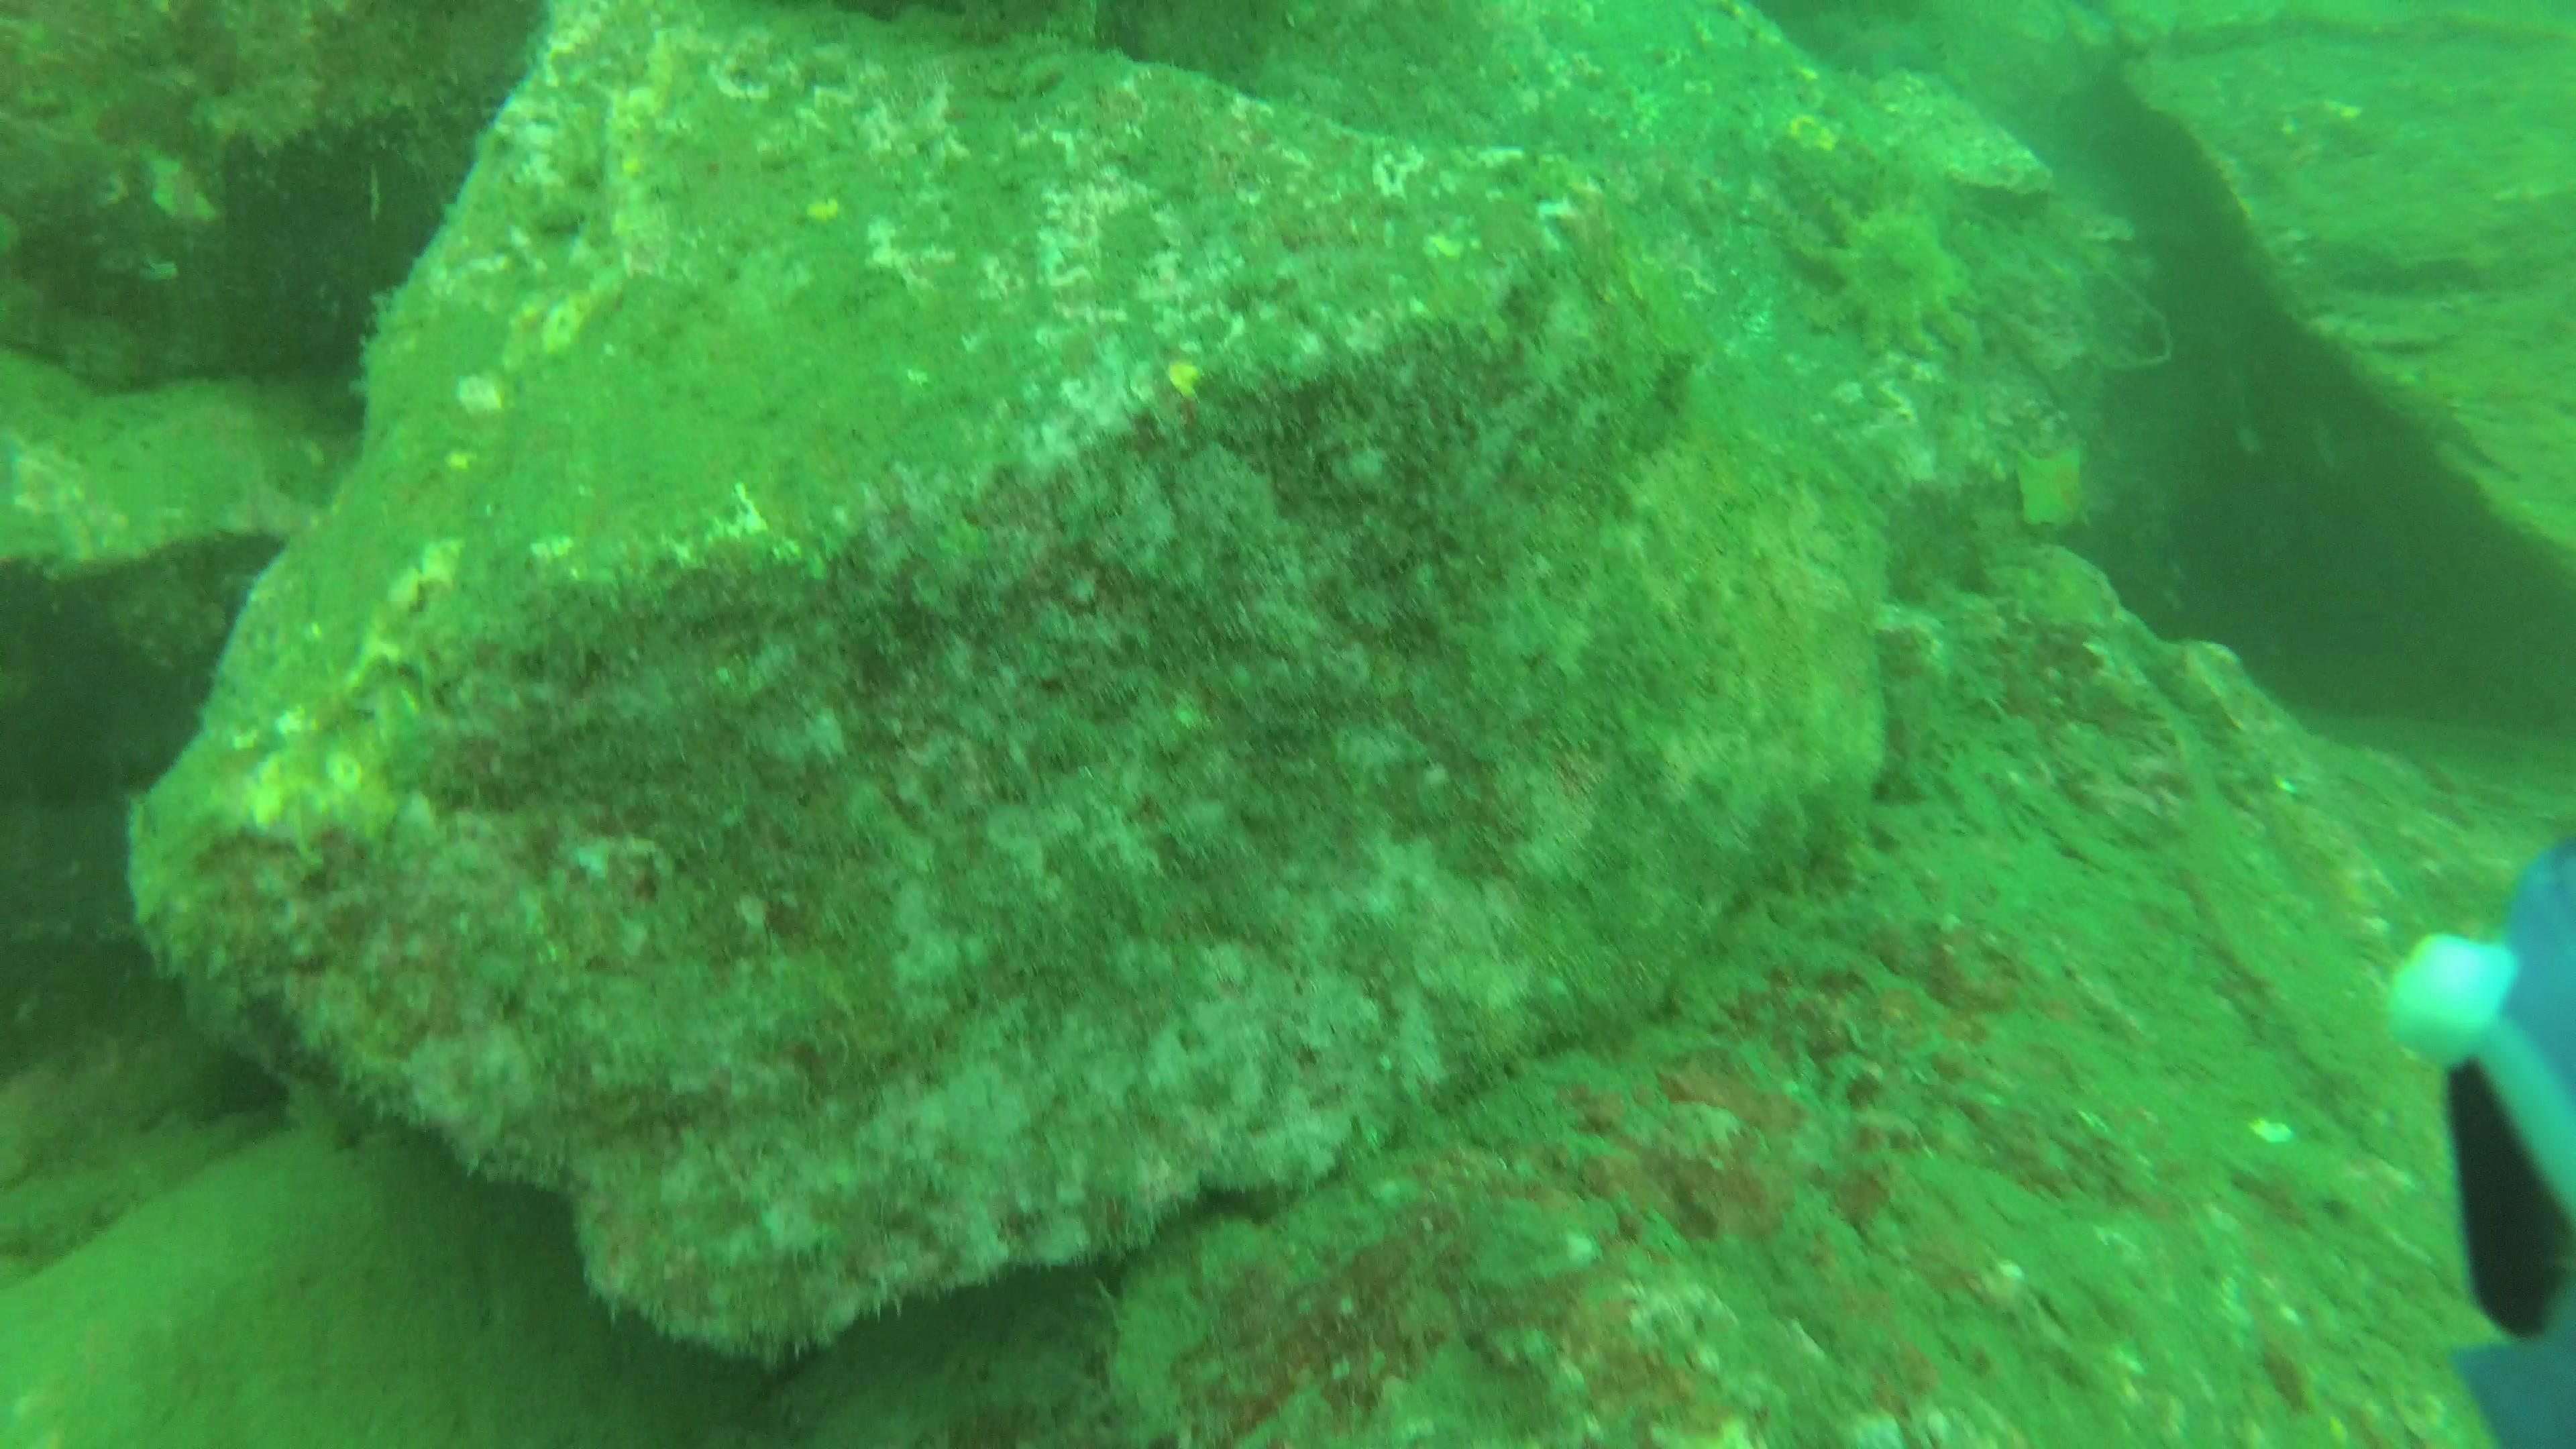starfish: (2003, 428, 2102, 541)
